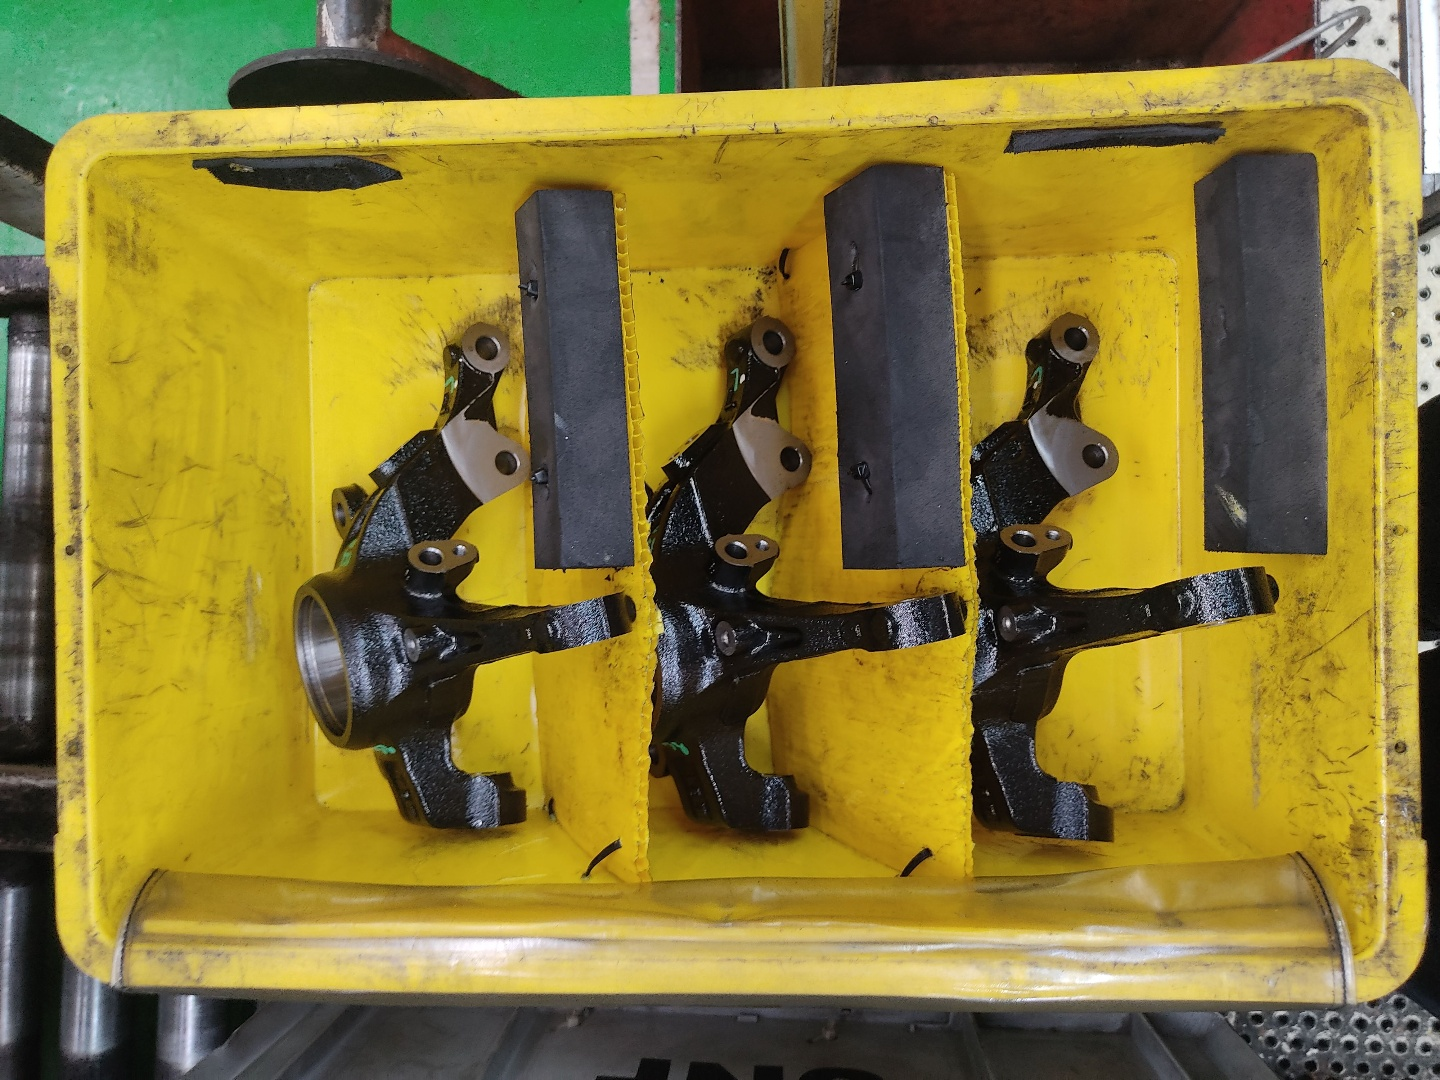abs-lh: (282, 307, 639, 845), (637, 310, 971, 843), (971, 309, 1287, 853)
